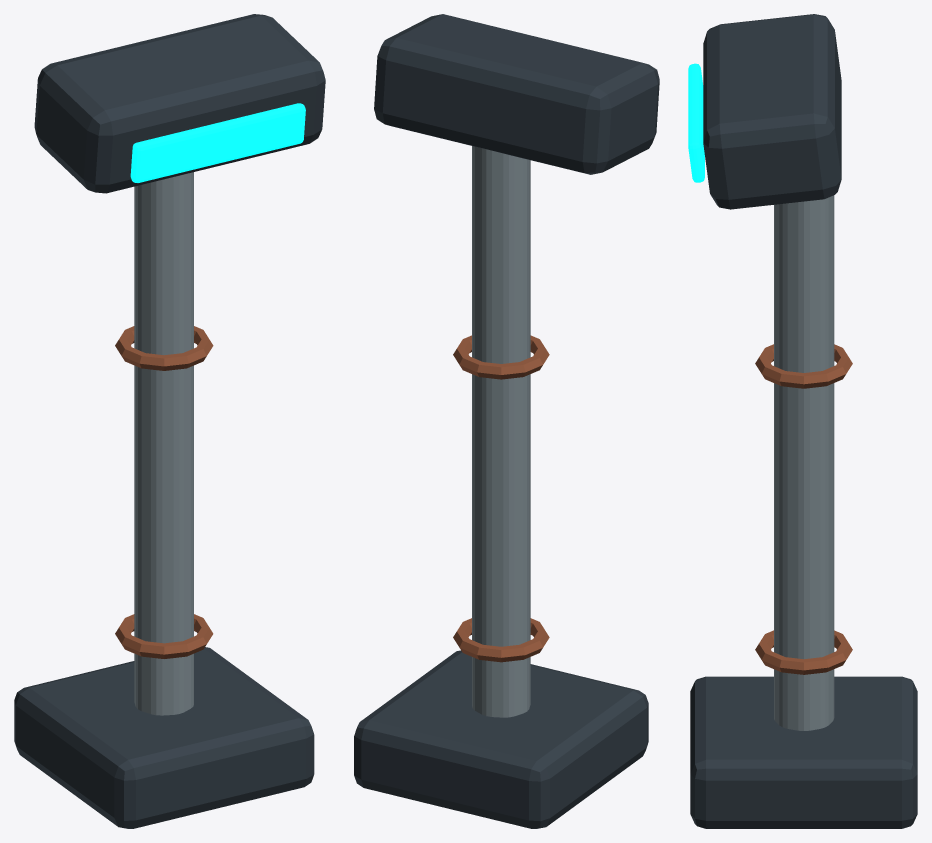
Rendered from SciFi-Lamp.glb.
3 views of the same model, side by side, from view 1: azimuth 30°, elevation 25°; view 2: azimuth 150°, elevation 25°; view 3: azimuth 270°, elevation 25° (orthographic).
Parts seen in each view (by area): view 1: Lamp_Base, Lamp_Head, Lamp_Post, Lamp_Emitter, Lamp_RustBand, Lamp_RustBand.001; view 2: Lamp_Base, Lamp_Head, Lamp_Post, Lamp_RustBand.001, Lamp_RustBand; view 3: Lamp_Base, Lamp_Post, Lamp_Head, Lamp_RustBand.001, Lamp_RustBand, Lamp_Emitter.
Boxes of the visible parts, box(x1,y1,x2,y2) form: Lamp_Base: box(14, 647, 314, 828); Lamp_Head: box(34, 14, 325, 193); Lamp_Post: box(134, 172, 193, 715); Lamp_Emitter: box(130, 103, 305, 182); Lamp_RustBand: box(115, 614, 213, 658); Lamp_RustBand.001: box(115, 326, 213, 370); Lamp_Base: box(354, 650, 648, 828); Lamp_Head: box(374, 14, 659, 174); Lamp_Post: box(472, 146, 530, 717); Lamp_RustBand.001: box(453, 335, 549, 379); Lamp_RustBand: box(453, 618, 549, 662); Lamp_Base: box(690, 676, 917, 828); Lamp_Post: box(774, 195, 834, 730); Lamp_Head: box(703, 14, 841, 209); Lamp_RustBand.001: box(755, 344, 852, 388); Lamp_RustBand: box(755, 630, 852, 674); Lamp_Emitter: box(688, 63, 704, 182).
Size of the model in its own units: 0.86 by 2.53 by 0.7264.
